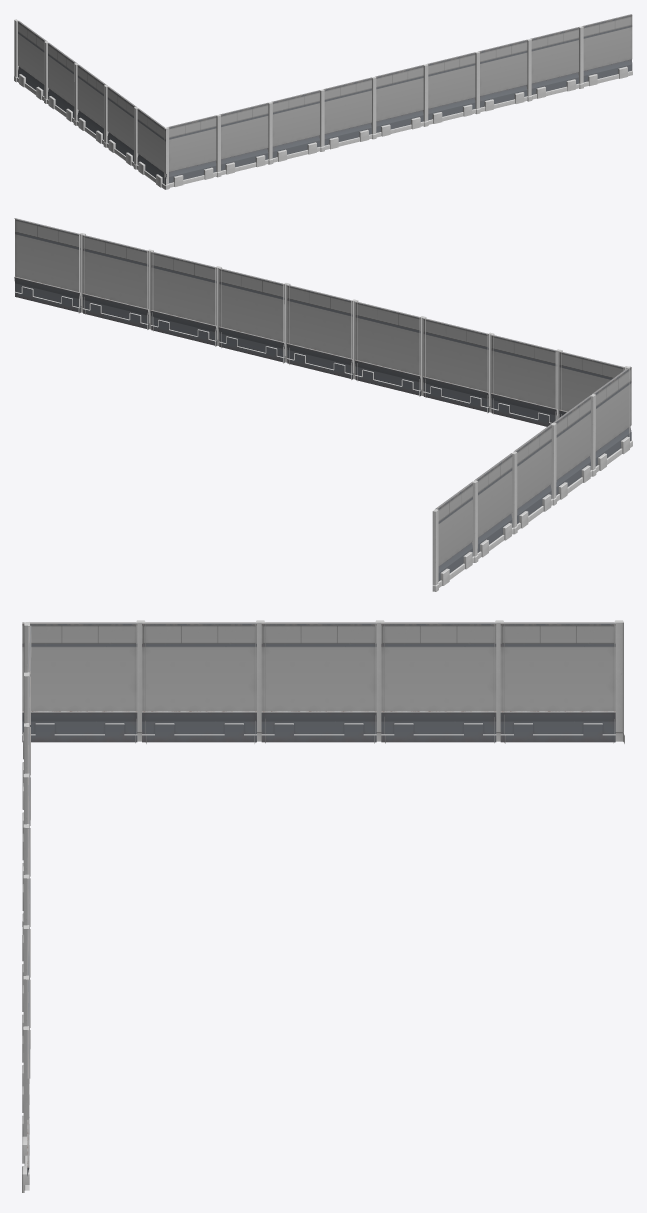
The model's file is Pfb_JALB_WallPart2_Line__3.fbx.
3 views of the same model, one above another, from view 1: azimuth 30°, elevation 25°; view 2: azimuth 150°, elevation 25°; view 3: azimuth 270°, elevation 25° (orthographic). The views are drawn at different scales.
Parts seen in each view (by area): view 1: MAT_JLABWall; view 2: MAT_JLABWall; view 3: MAT_JLABWall.
Part boxes in pixels (bbox=[...]): MAT_JLABWall: bbox=[14, 14, 632, 189]; MAT_JLABWall: bbox=[14, 218, 632, 591]; MAT_JLABWall: bbox=[22, 620, 624, 1192].
Bounding box in the file's own units: 32.65 × 4.04 × 18.15.
1 material, 1 textured.
